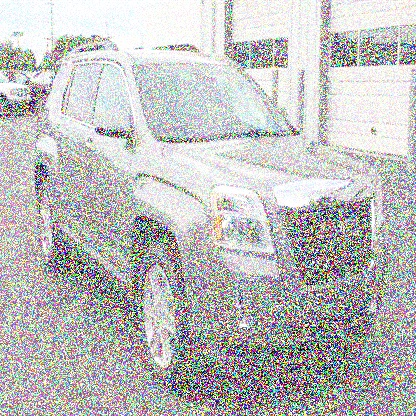Vehicle: (35, 38, 391, 392)
